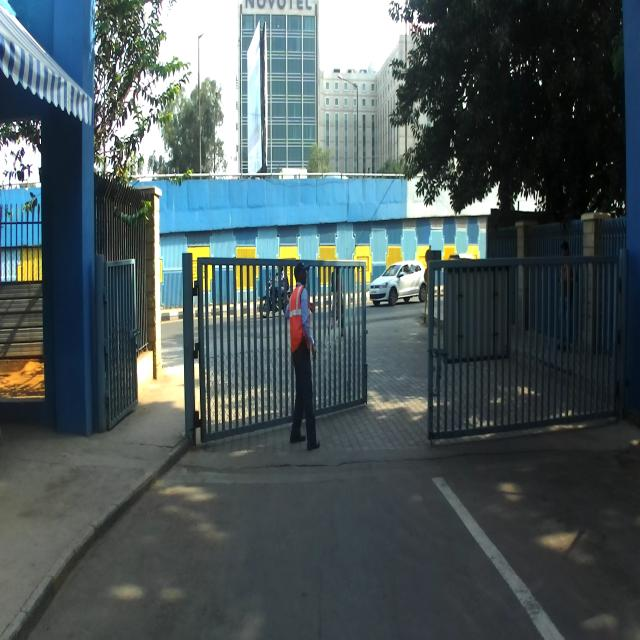gate ahead at: (428, 252, 622, 440)
person ahead at: (282, 261, 323, 456)
